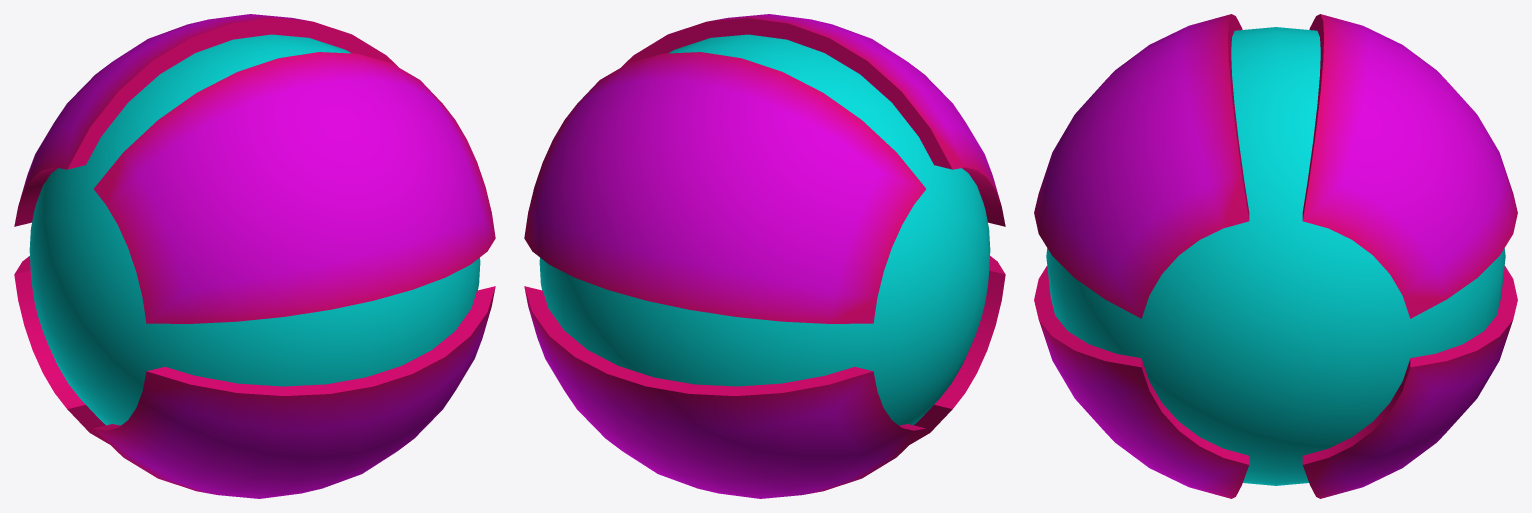
The model's file is Player Balls.fbx.
The picture shows the model from 3 angles, left to right: view 1: azimuth 30°, elevation 25°; view 2: azimuth 150°, elevation 25°; view 3: azimuth 270°, elevation 25°; orthographic projection.
Parts seen in each view (by area): view 1: Sphere.001; view 2: Sphere.001; view 3: Sphere.001.
Boxes of the visible parts, x1,y1,x2,y2 form: Sphere.001: [14, 14, 495, 498]; Sphere.001: [524, 14, 1005, 498]; Sphere.001: [1034, 14, 1517, 498].
Bounding box in the file's own units: 93.1 × 98.08 × 98.08.
